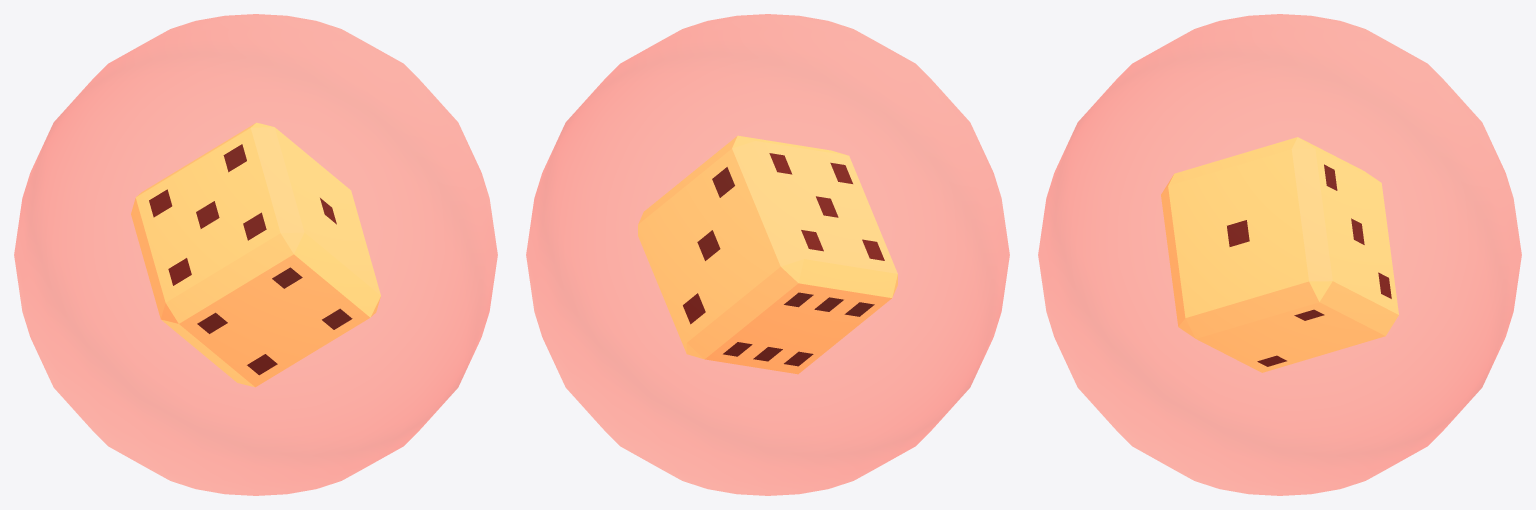
The model's file is orb_fury.glb.
3 renders of one model, left to right at view 1: azimuth 30°, elevation 25°; view 2: azimuth 150°, elevation 25°; view 3: azimuth 270°, elevation 25°, orthographic.
Visible parts, largest first — view 1: orb_fury, orb_fury_core; view 2: orb_fury, orb_fury_core; view 3: orb_fury, orb_fury_core.
Part boxes in pixels (x1,y1,x2,y2): orb_fury: (14, 14, 497, 495); orb_fury_core: (131, 122, 380, 387); orb_fury: (526, 14, 1009, 495); orb_fury_core: (638, 135, 897, 374); orb_fury: (1038, 14, 1521, 495); orb_fury_core: (1161, 137, 1398, 372).
Size of the model in its own units: 0.3 by 0.3 by 0.3.
